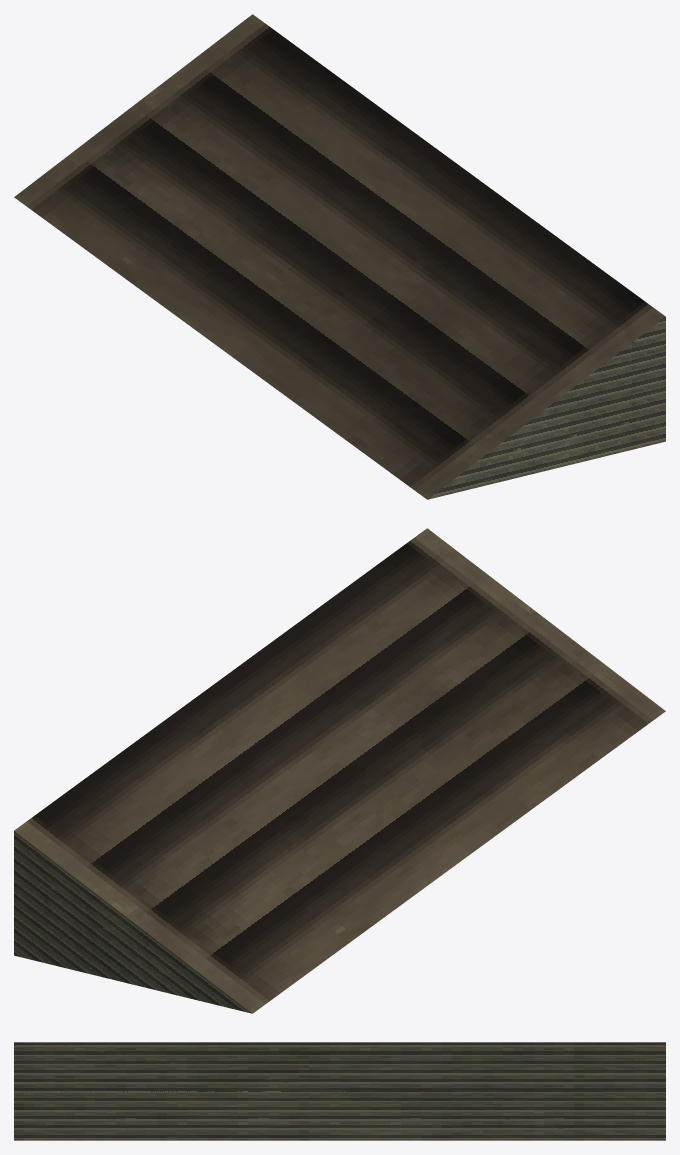
The model's file is stairs_ultrawide.glb.
3 views of the same model, one above another, from view 1: azimuth 30°, elevation 25°; view 2: azimuth 150°, elevation 25°; view 3: azimuth 270°, elevation 25° (orthographic). The views are drawn at different scales.
Visible parts, largest first — view 1: stairs_ultrawide; view 2: stairs_ultrawide; view 3: stairs_ultrawide.
Part boxes in pixels (box(x1,y1,x2,y2)): stairs_ultrawide: box(14, 14, 665, 499); stairs_ultrawide: box(14, 528, 665, 1013); stairs_ultrawide: box(14, 1042, 665, 1140).
Size of the model in its own units: 4 by 2 by 12.
Materials: 1 (1 with a texture image).
